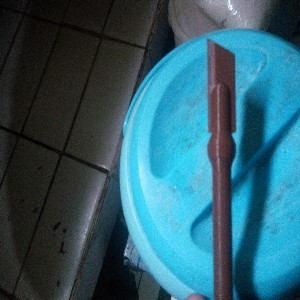cutter: (205, 36, 238, 300)
